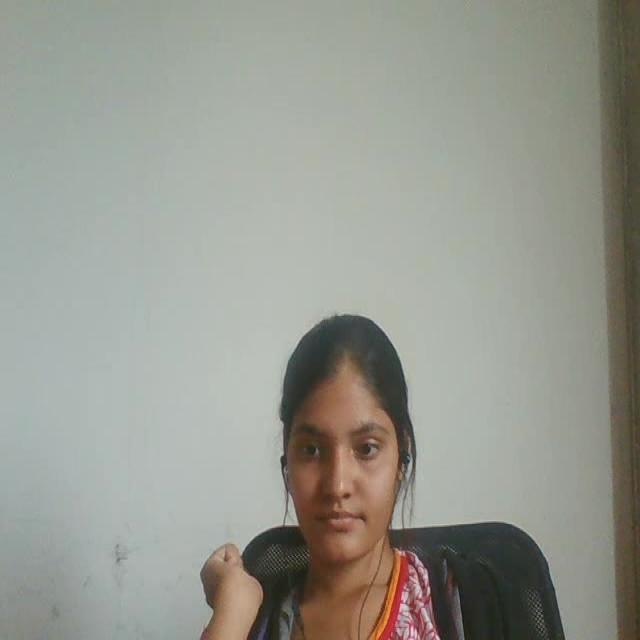Engaged: (259, 292, 412, 580)
